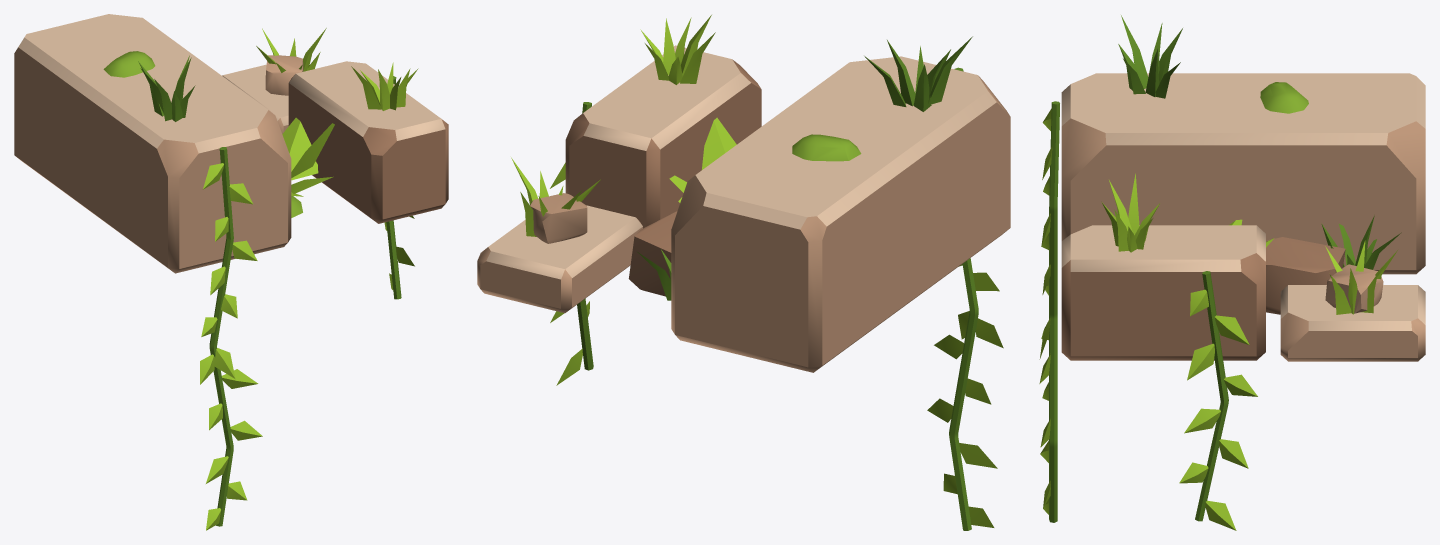
Rendered from wall_top_a__upper.glb.
The picture shows the model from 3 angles, left to right: view 1: azimuth 30°, elevation 25°; view 2: azimuth 150°, elevation 25°; view 3: azimuth 270°, elevation 25°; orthographic projection. The views are drawn at different scales.
Parts seen in each view (by area): view 1: wall_top_a; view 2: wall_top_a; view 3: wall_top_a.
Boxes of the visible parts, box(x1,y1,x2,y2) form: wall_top_a: box(14, 14, 448, 530); wall_top_a: box(477, 15, 1010, 530); wall_top_a: box(1039, 15, 1425, 530).
Bounding box in the file's own units: 1.04 × 1.45 × 1.04.
